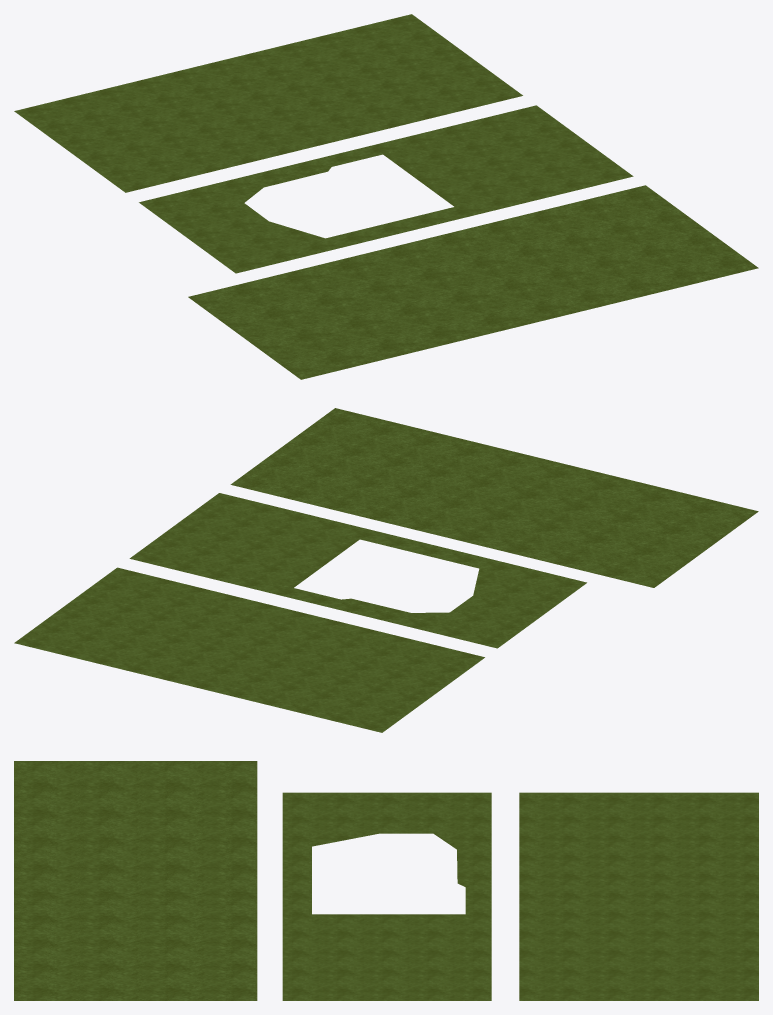
File: grass.dae
3 renders of one model, top to bottom at view 1: azimuth 30°, elevation 25°; view 2: azimuth 150°, elevation 25°; view 3: azimuth 270°, elevation 25°, orthographic. The views are drawn at different scales.
Visible parts, largest first — view 1: grass; view 2: grass; view 3: grass.
Part boxes in pixels (box(x1,y1,x2,y2)): grass: box(14, 14, 758, 379); grass: box(14, 408, 758, 732); grass: box(14, 761, 758, 1000).
Size of the model in its own units: 62.75 by 82.39 by 3.6e-06.
Materials: 1 (1 with a texture image).
